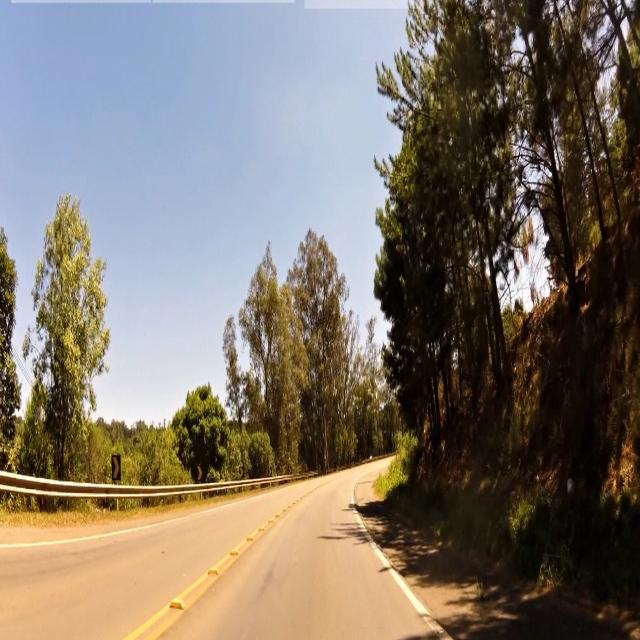Del: (111, 452, 122, 481), (196, 466, 203, 482)
